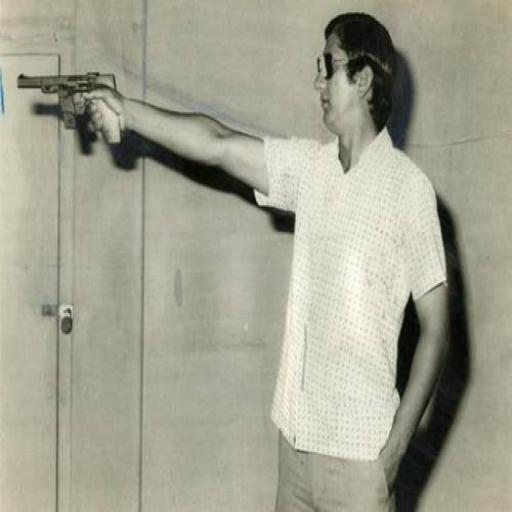shooting: (80, 9, 454, 510)
